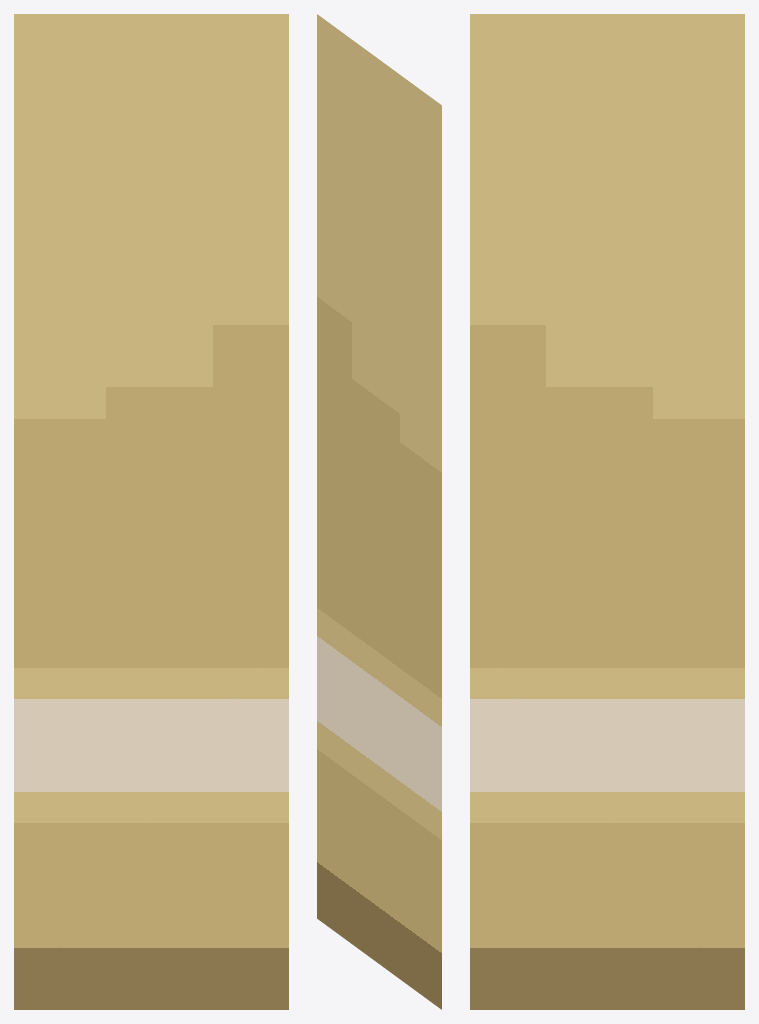
3 views of the same model, side by side, from view 1: azimuth 90°, elevation 25°; view 2: azimuth 210°, elevation 25°; view 3: azimuth 270°, elevation 25° (orthographic). The views are drawn at different scales.
Bounding box in the file's own units: 0 × 4 × 1.
1 material, 1 textured.
